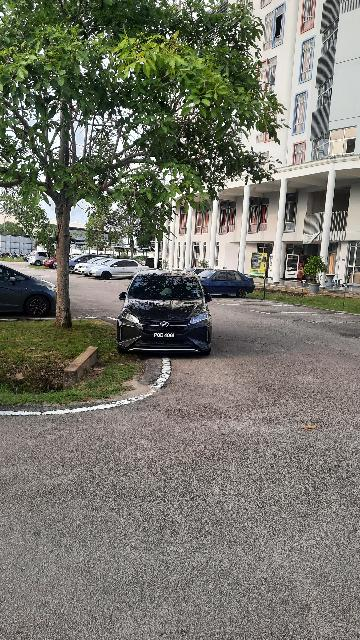License_Plate: (153, 331, 179, 342)
car: (116, 271, 214, 358), (192, 265, 256, 301)
